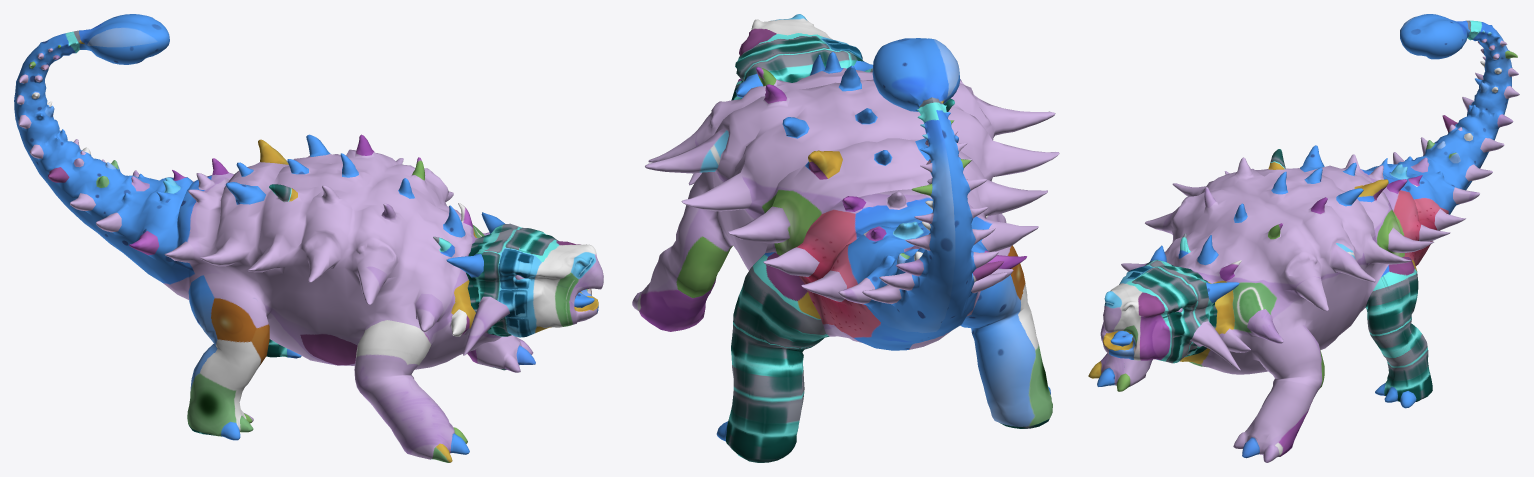
The model's file is apatosaurus.gltf.
3 views of the same model, side by side, from view 1: azimuth 30°, elevation 25°; view 2: azimuth 150°, elevation 25°; view 3: azimuth 270°, elevation 25° (orthographic). The views are drawn at different scales.
Visible parts, largest first — view 1: ankylosaurus.1; view 2: ankylosaurus.1; view 3: ankylosaurus.1.
Boxes of the visible parts, bbox=[...] form: ankylosaurus.1: bbox=[14, 14, 603, 462]; ankylosaurus.1: bbox=[632, 14, 1059, 462]; ankylosaurus.1: bbox=[1088, 14, 1519, 462].
Size of the model in its own units: 3.01 by 2.57 by 3.15.
